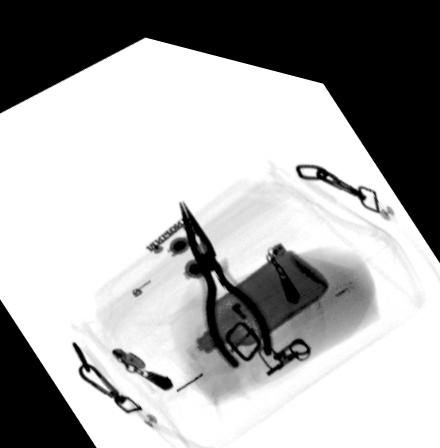Pliers: (177, 189, 274, 356)
